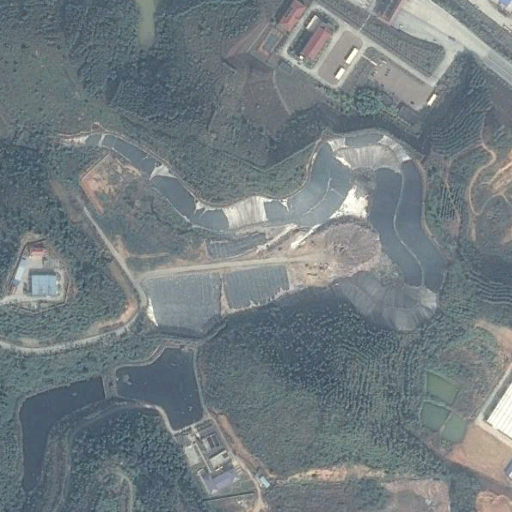lf: (53, 129, 444, 334)
